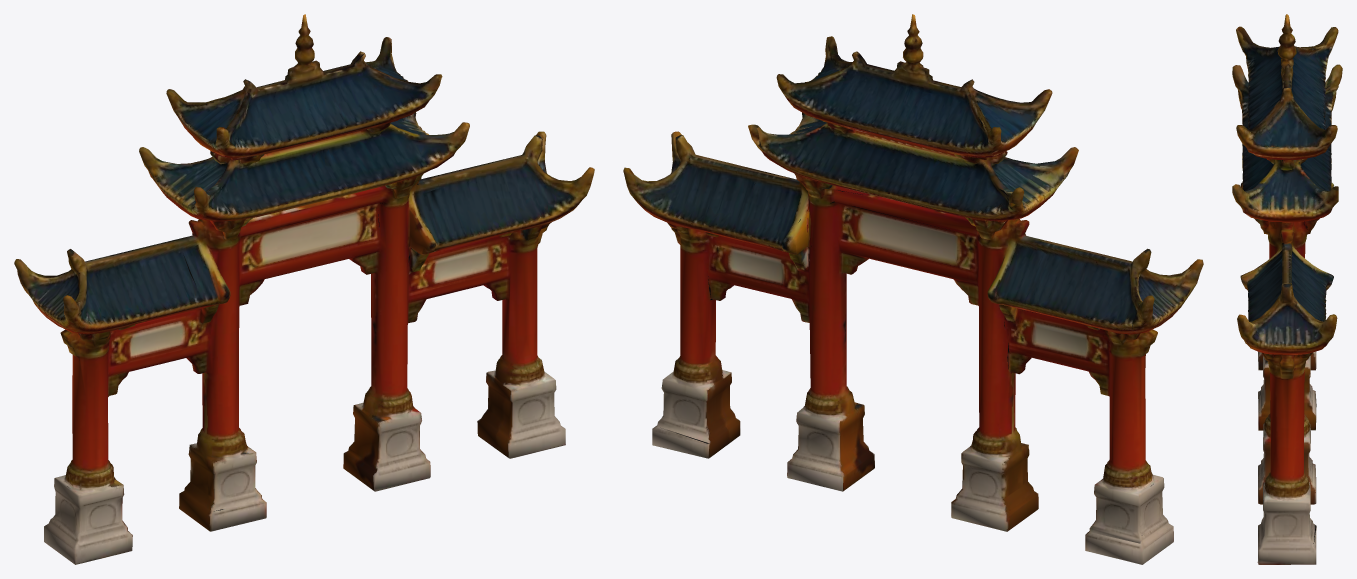
Rendered from landmark.glb.
The picture shows the model from 3 angles, left to right: view 1: azimuth 30°, elevation 25°; view 2: azimuth 150°, elevation 25°; view 3: azimuth 270°, elevation 25°; orthographic projection. The views are drawn at different scales.
Parts seen in each view (by area): view 1: landmark; view 2: landmark; view 3: landmark.
Boxes of the visible parts, bbox=[...] form: landmark: bbox=[14, 14, 594, 564]; landmark: bbox=[623, 14, 1203, 564]; landmark: bbox=[1232, 14, 1342, 564].
Bounding box in the file's own units: 16.2 × 13.99 × 3.17.
Materials: 1 (1 with a texture image).
